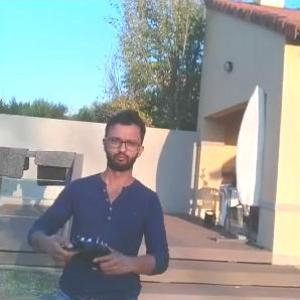follow: (21, 99, 172, 299)
